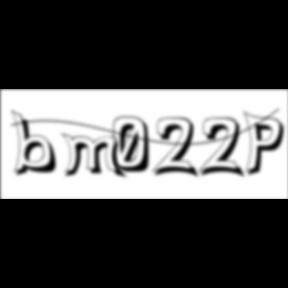0: (114, 115, 158, 174)
2: (153, 117, 203, 181), (199, 117, 249, 181)
b: (12, 109, 64, 179)
m: (61, 132, 129, 181)
